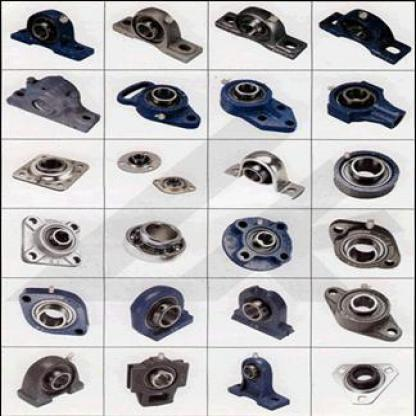FOD: (16, 284, 93, 340), (326, 215, 402, 269), (20, 210, 85, 271)
